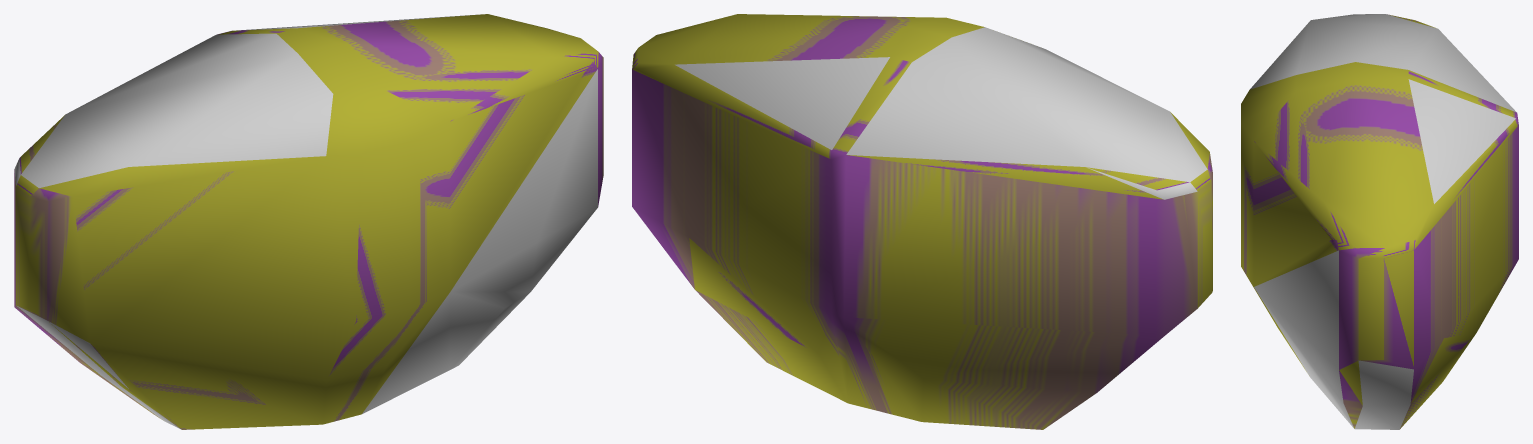
Rendered from npc_invisomut_collider.obj.
3 views of the same model, side by side, from view 1: azimuth 30°, elevation 25°; view 2: azimuth 150°, elevation 25°; view 3: azimuth 270°, elevation 25° (orthographic). The views are drawn at different scales.
Parts seen in each view (by area): view 1: npc_inviso_mut_mesh_Plane.038; view 2: npc_inviso_mut_mesh_Plane.038; view 3: npc_inviso_mut_mesh_Plane.038.
Part boxes in pixels (x1,y1,x2,y2): npc_inviso_mut_mesh_Plane.038: (14, 14, 603, 429); npc_inviso_mut_mesh_Plane.038: (632, 14, 1212, 429); npc_inviso_mut_mesh_Plane.038: (1241, 14, 1518, 429).
Bounding box in the file's own units: 1.83 × 1.07 × 0.8926.
